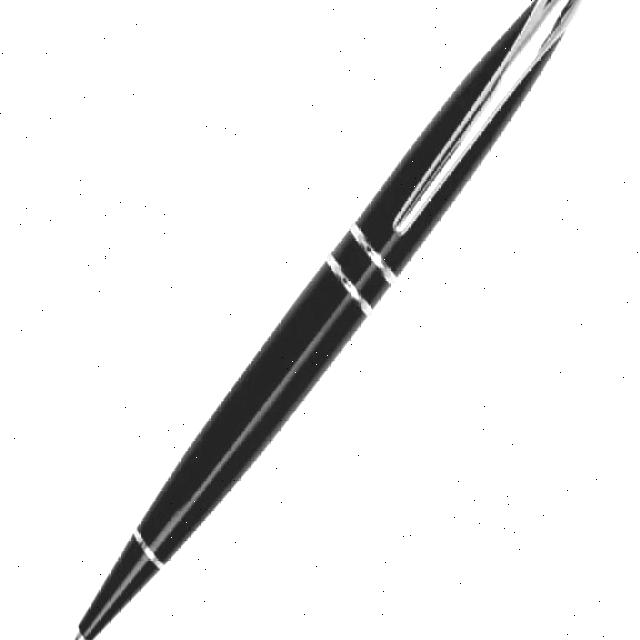pencil: (54, 0, 608, 640)
